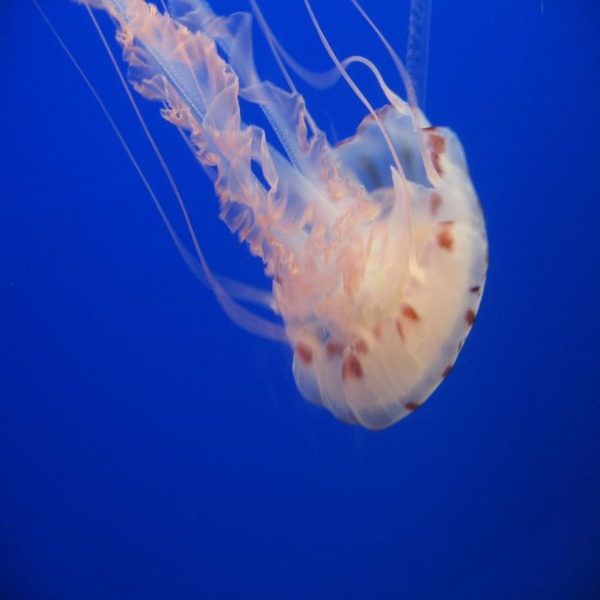Jellyfish: (32, 0, 489, 429)
